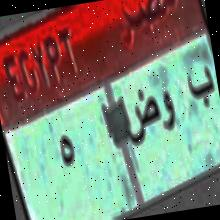5: (54, 123, 80, 172)
baa: (183, 60, 219, 115)
daad: (123, 86, 163, 152)
waw: (156, 82, 182, 134)
